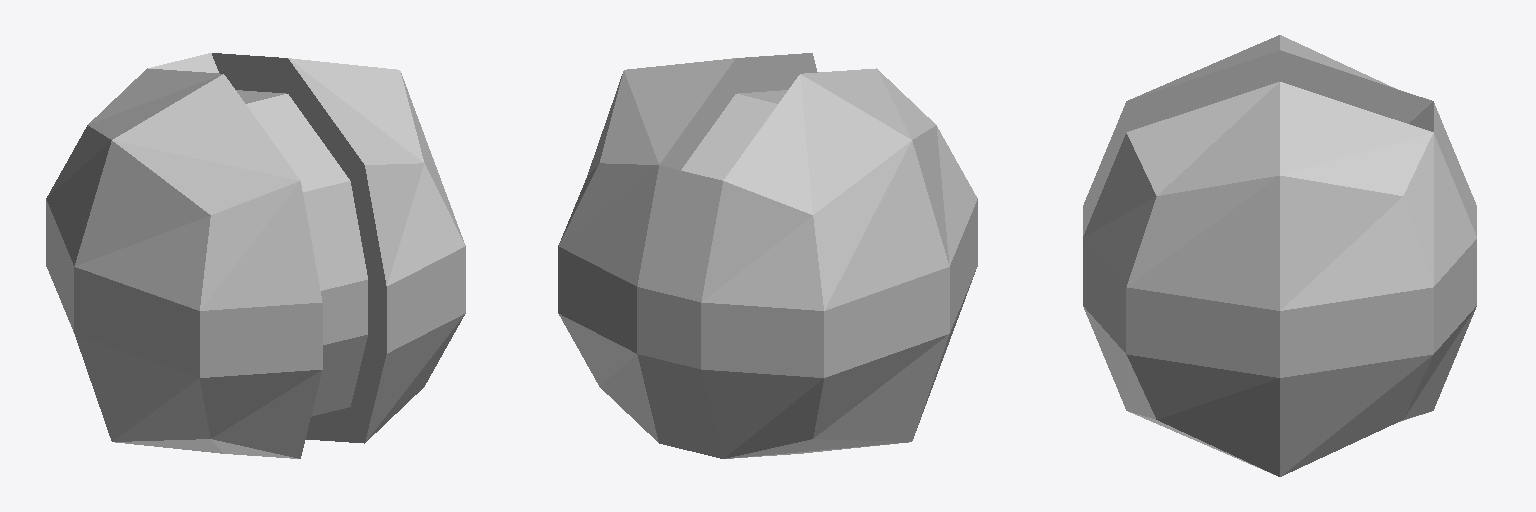
Rendered from Orb_I.obj.
3 views of the same model, side by side, from view 1: azimuth 30°, elevation 25°; view 2: azimuth 150°, elevation 25°; view 3: azimuth 270°, elevation 25° (orthographic).
Bounding box in the file's own units: 0.9327 × 0.9327 × 0.8779.